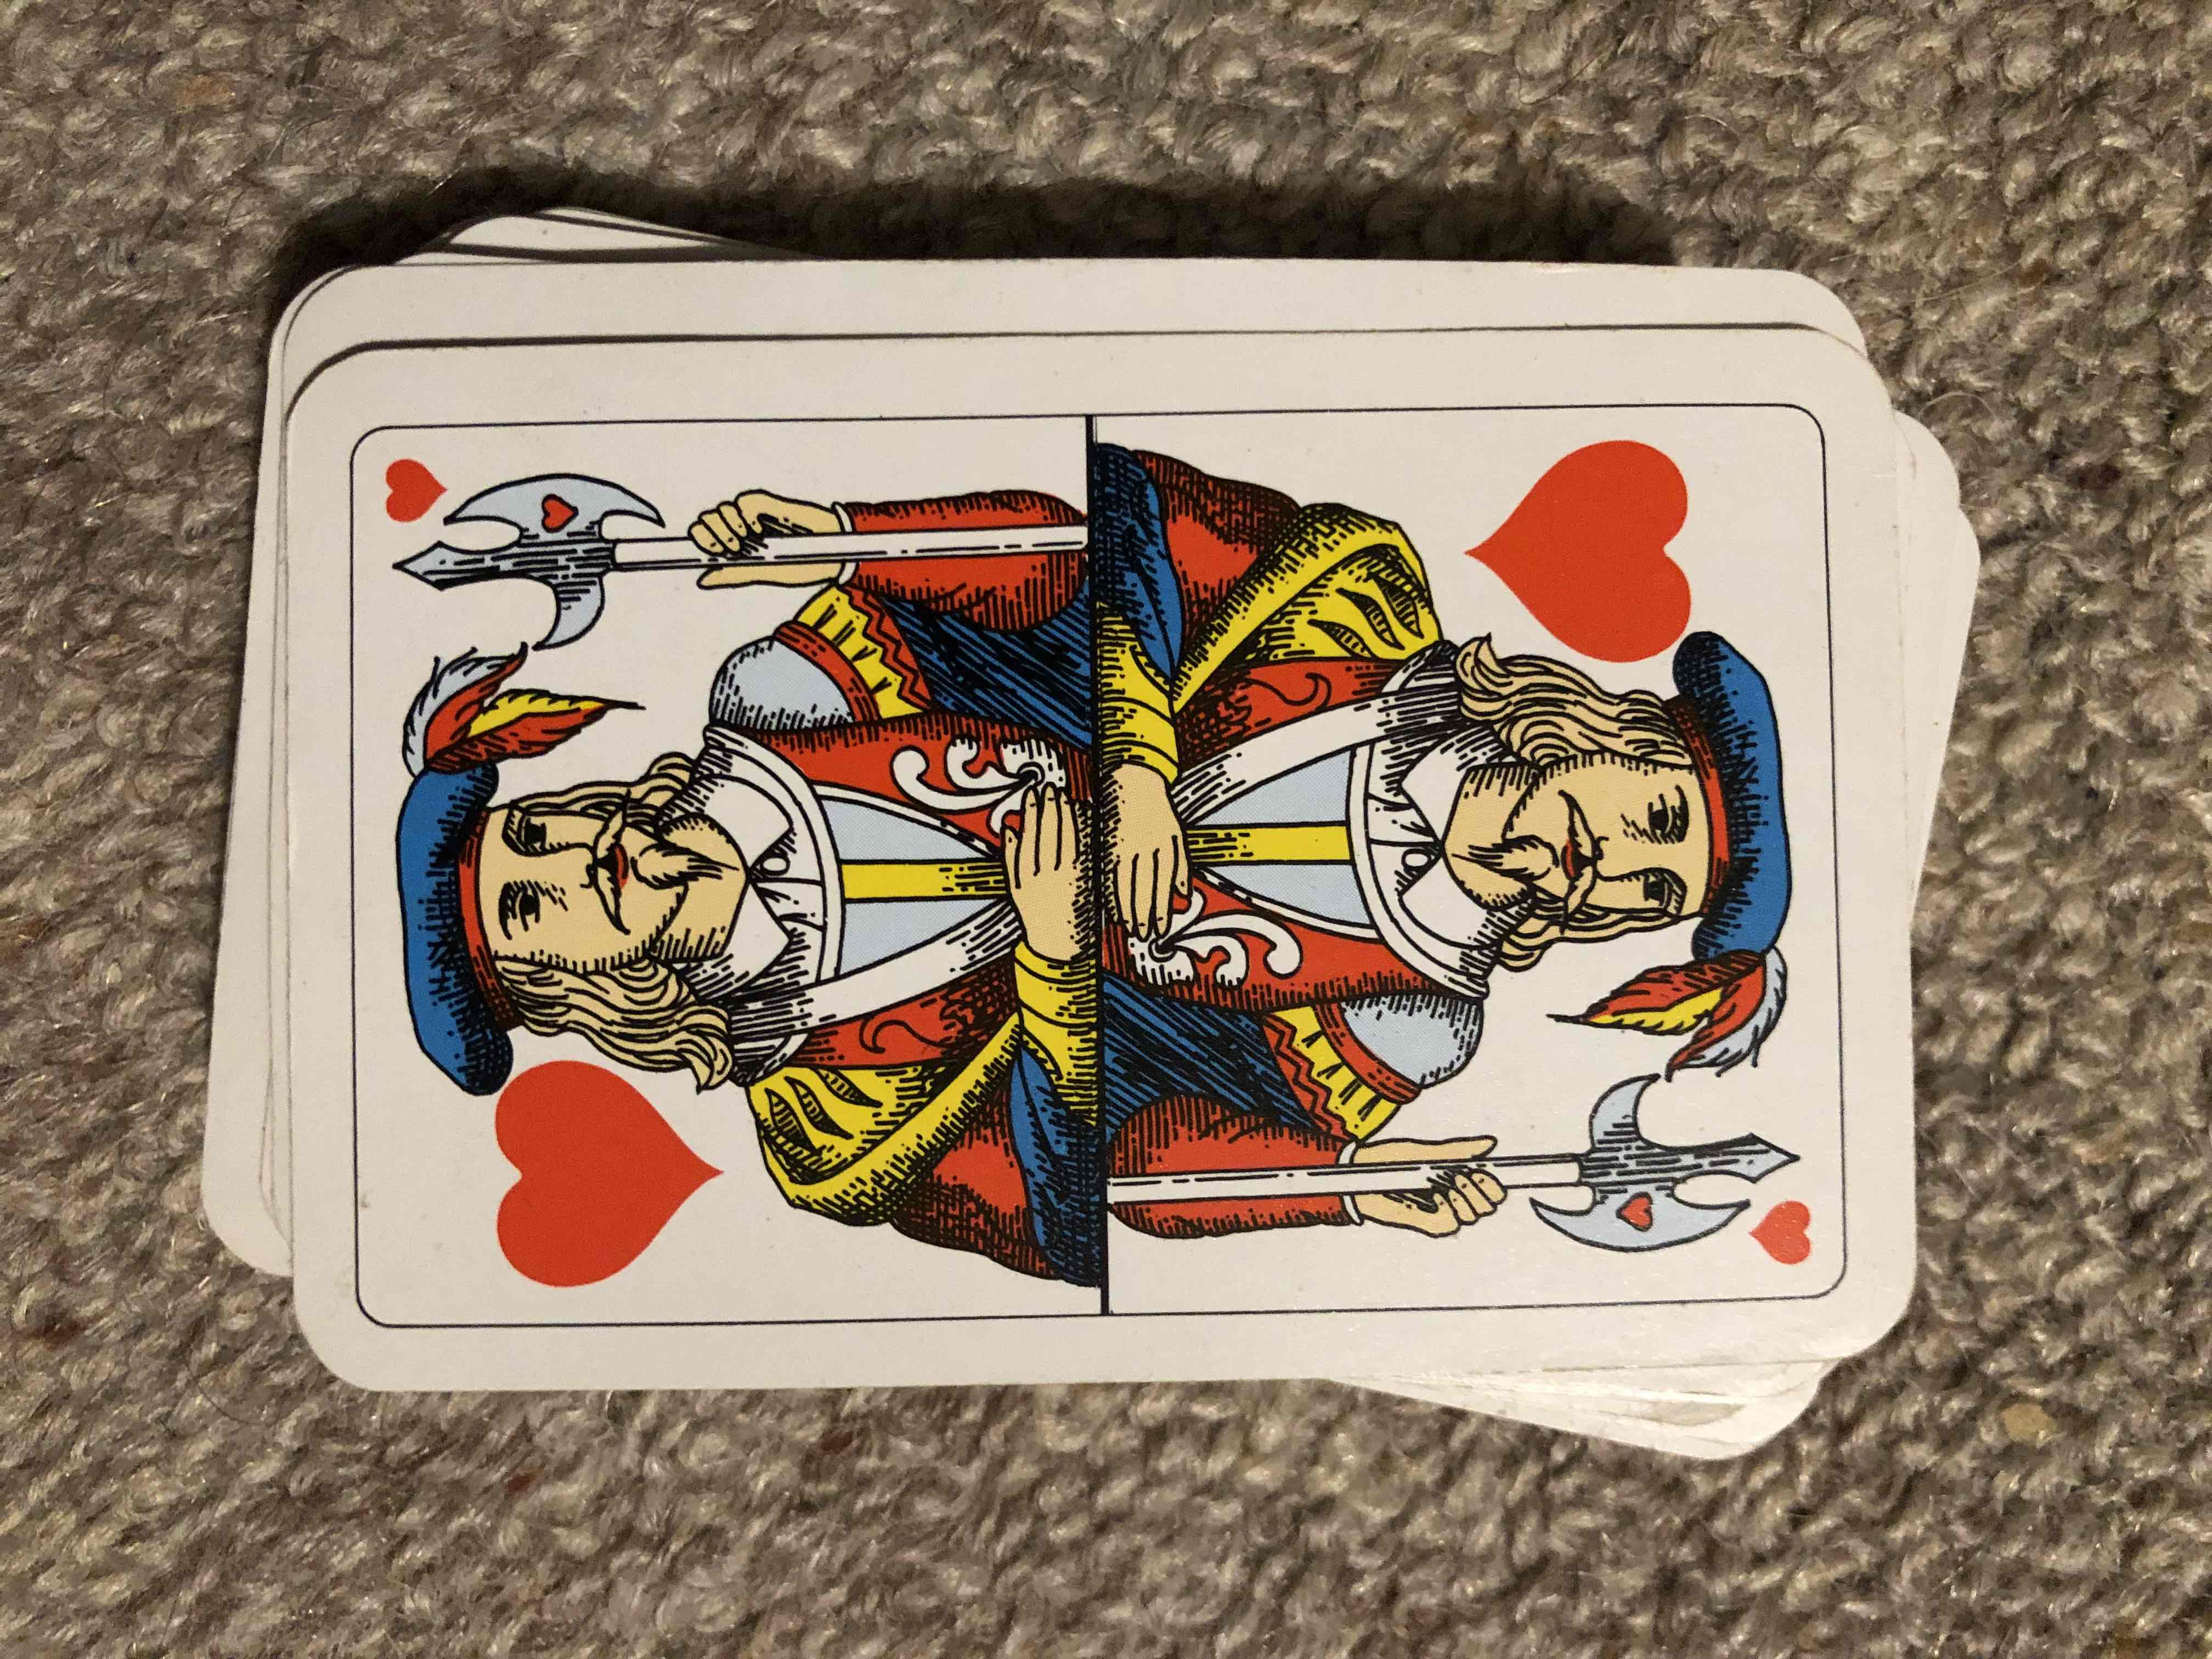heartsJack: (300, 343, 1902, 1333)
